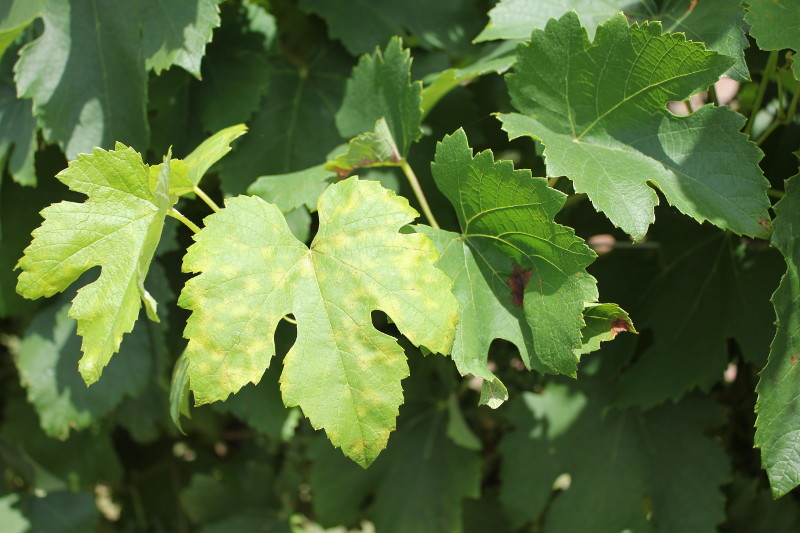downy: (320, 212, 402, 389), (200, 233, 264, 371), (403, 238, 456, 351), (323, 392, 385, 457), (269, 237, 312, 313), (298, 319, 318, 417), (331, 183, 393, 211), (226, 203, 274, 231), (192, 376, 241, 390)
